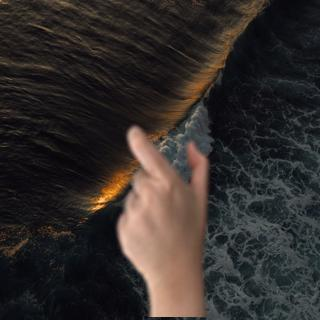Irritated: (111, 120, 215, 300)
